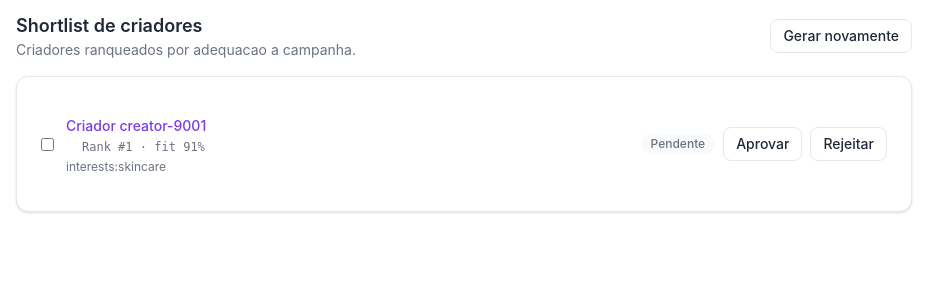
Test: ShortlistPage - US-11 › shows an explicit error when a decision is rejected because the shortlist got locked mid-session
This screenshot has width=929, height=308.
Expected: the link "Criador creator-9001" is shown, [66, 117, 206, 134]
Click the button "Aprovar": (763, 144) [723, 127, 802, 161]
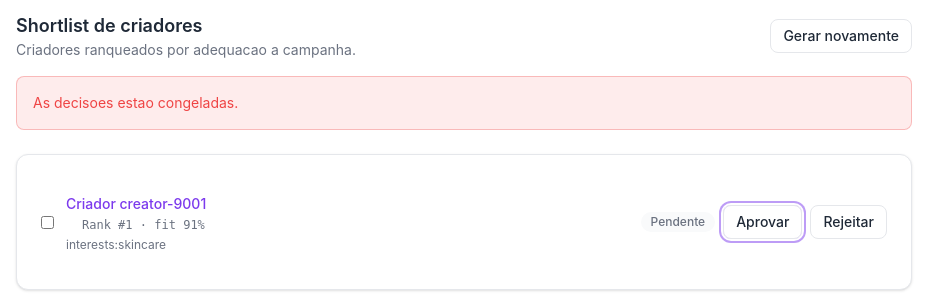
Expected: the message shows "As decisoes estao congeladas", [33, 94, 238, 111]
